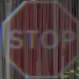Stop: (0, 2, 74, 68)
